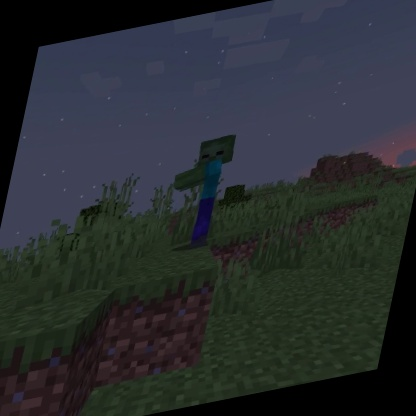zombie: (153, 130, 243, 260)
